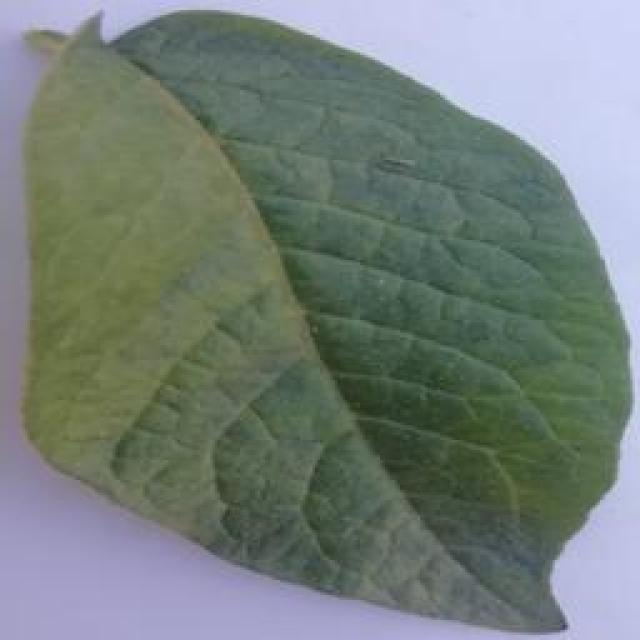Potato_Healthy: (19, 7, 622, 631)
